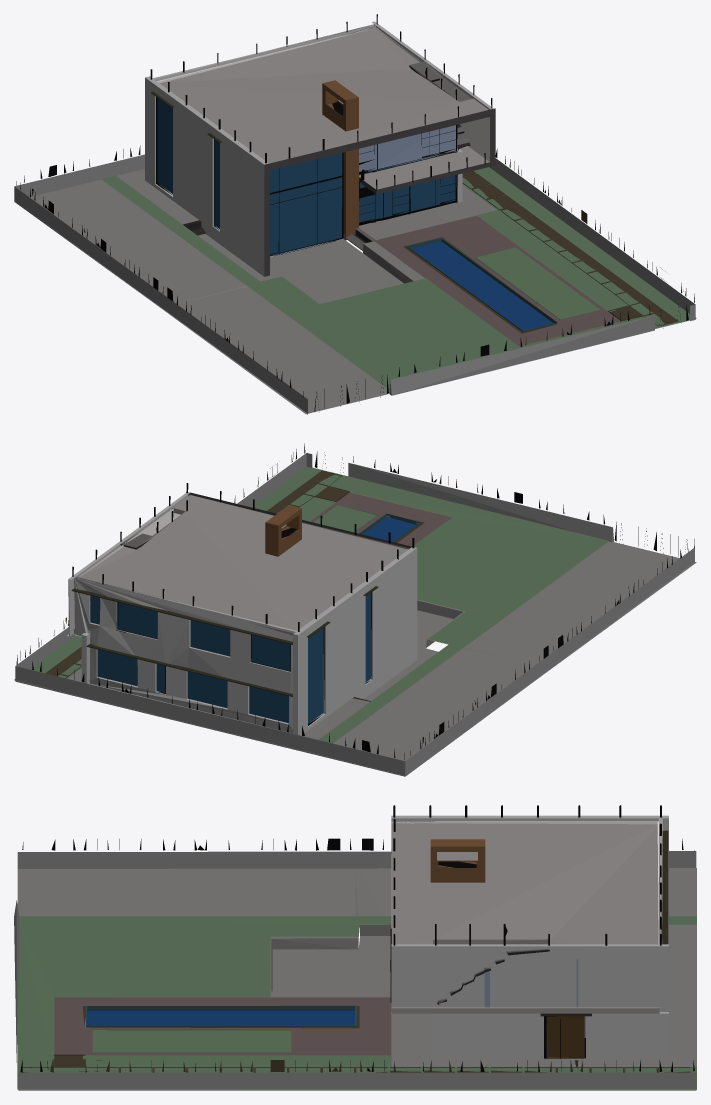
3 views of the same model, one above another, from view 1: azimuth 30°, elevation 25°; view 2: azimuth 150°, elevation 25°; view 3: azimuth 270°, elevation 25° (orthographic). The views are drawn at different scales.
Bounding box in the file's own units: 26.84 × 9.78 × 34.88.
